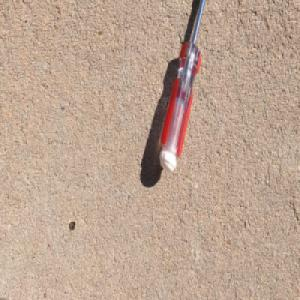Screwdriver: (158, 0, 208, 174)
